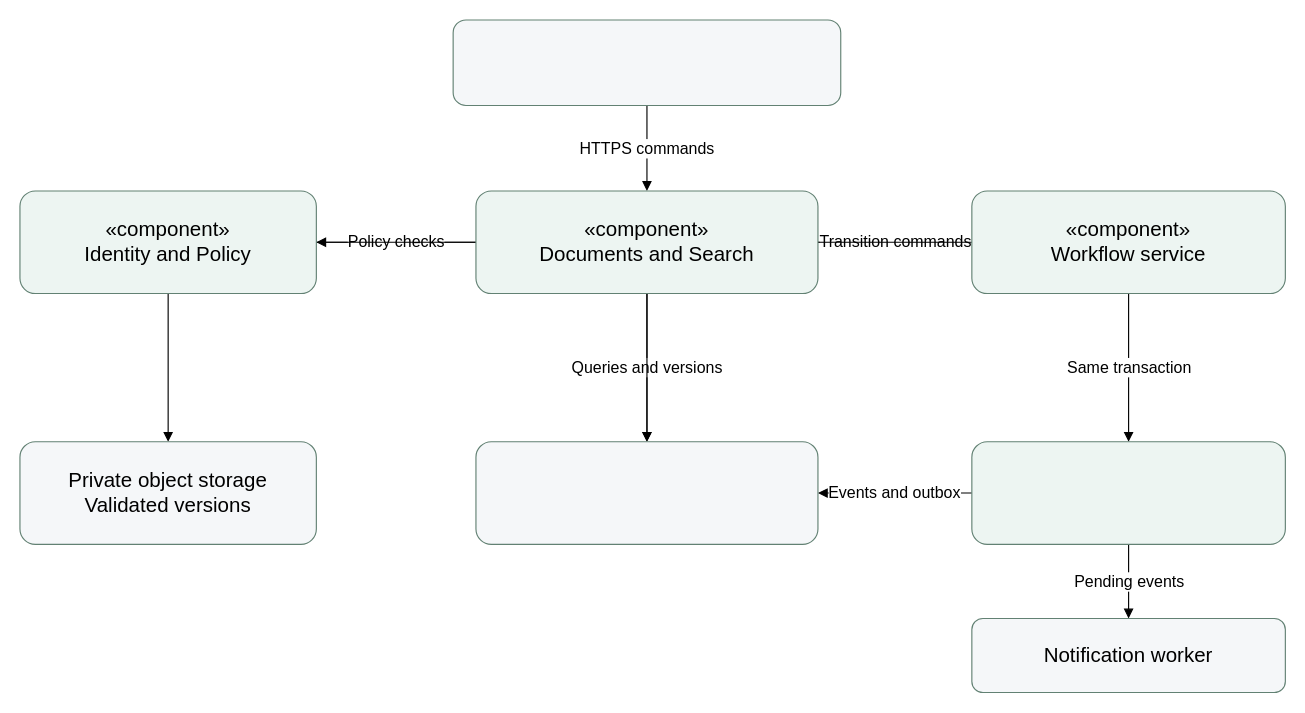
Image size: 1305x713. Some labels were removed from this diagram. Here are the shapes that lost their labels. From the top down, the box of each, then its label:
(452, 19, 841, 105): Browser UI
(475, 441, 818, 544): PostgreSQL Metadata and review cycles
(971, 441, 1285, 544): «component» Audit and Outbox
